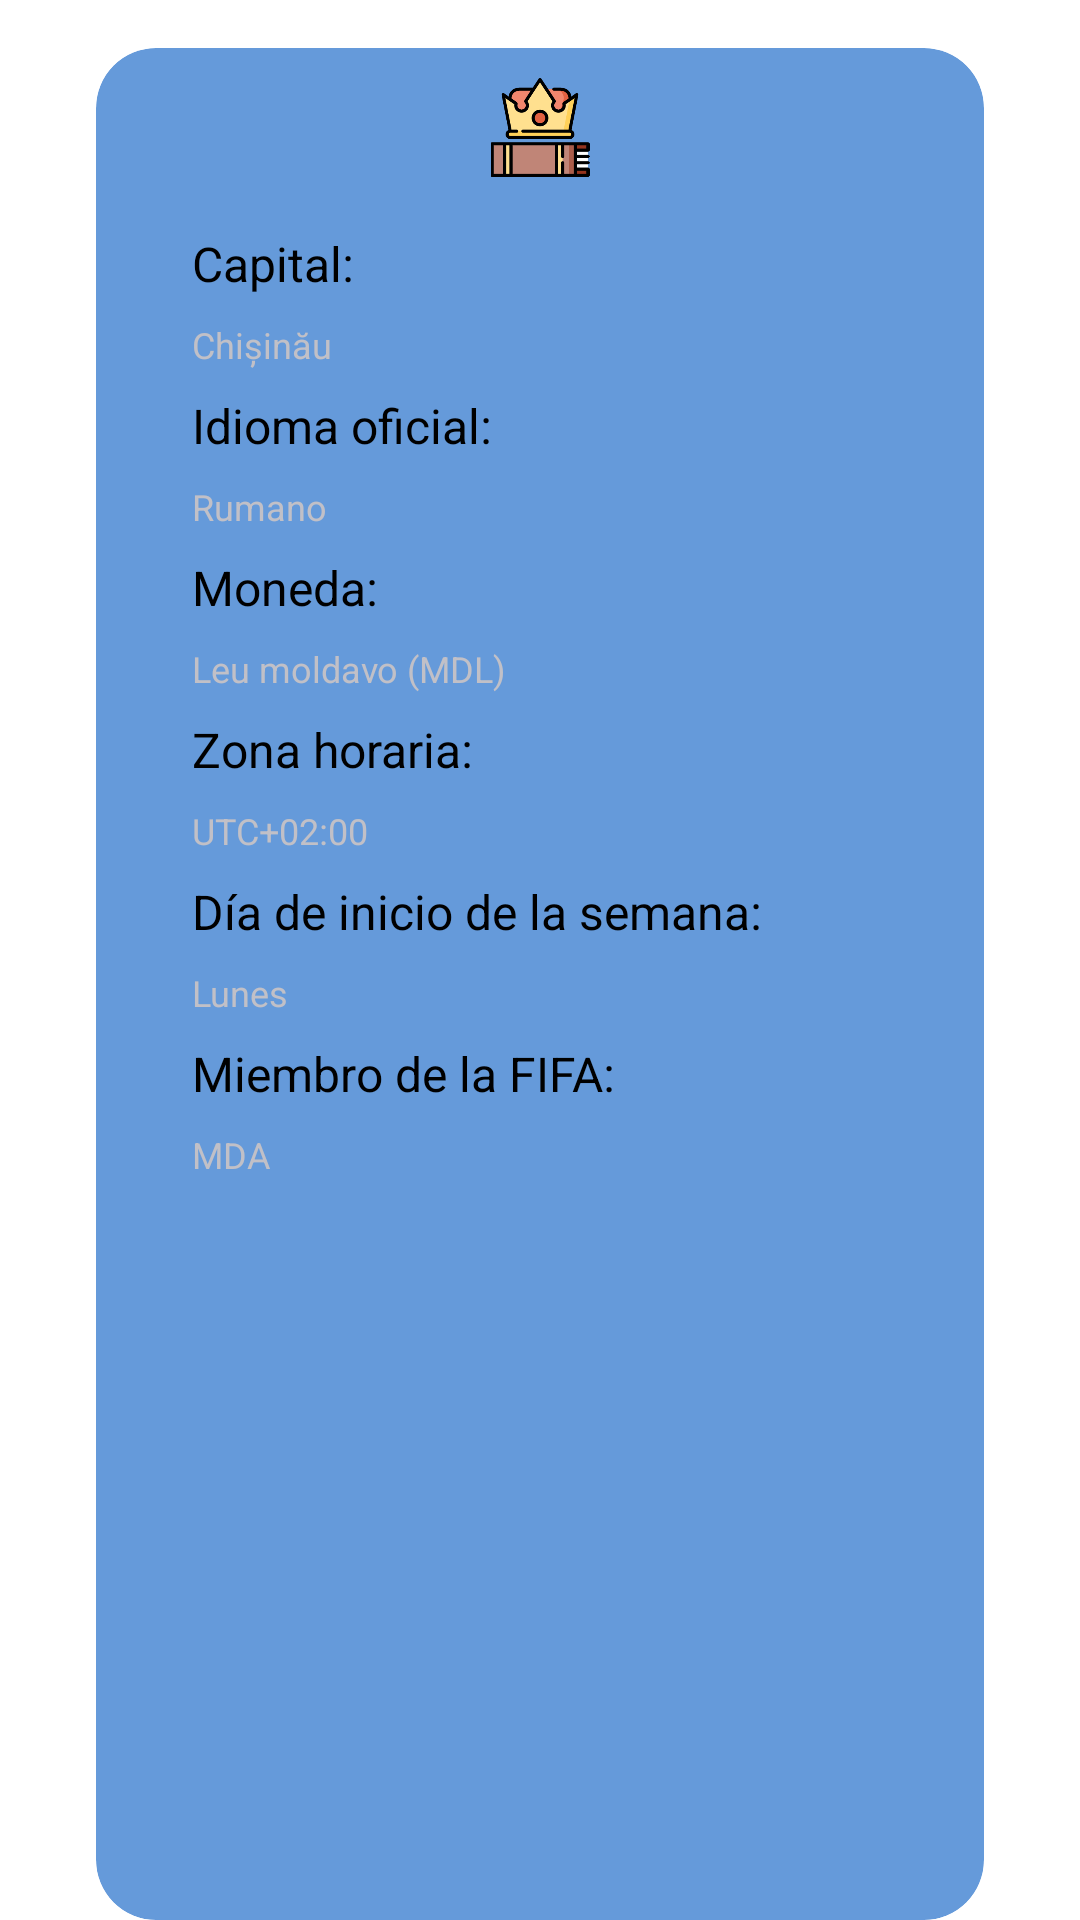

Where icons sit on this 1080w x 1920h app screen, as rect(x1, y1, x2, y2):
government: rect(491, 78, 590, 177)
